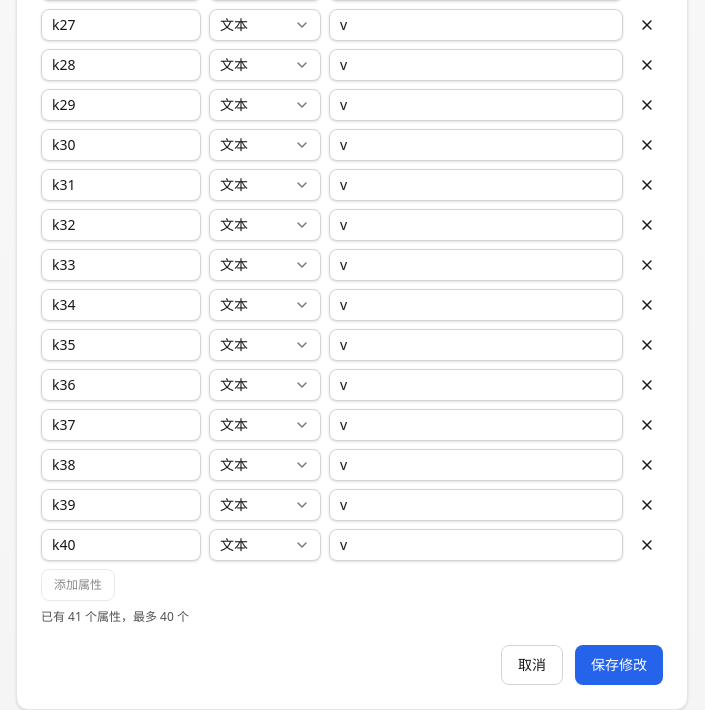
Test case: attributes editor › marks a 41st attribute on the field and focuses that row
(page scrolled)
expect the text "已有 41 个属性，最多 40 个" is shown: met, box [41,608,189,625]
Click the button "保存修改".
click(619, 665)  # box [575,645,663,685]
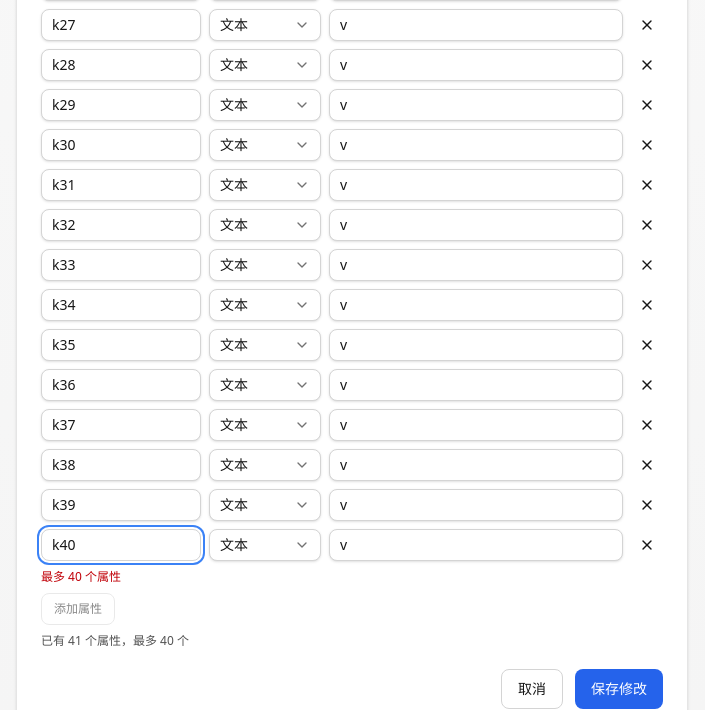
expect the text "最多 40 个属性" is shown: met, box [41,568,121,585]
